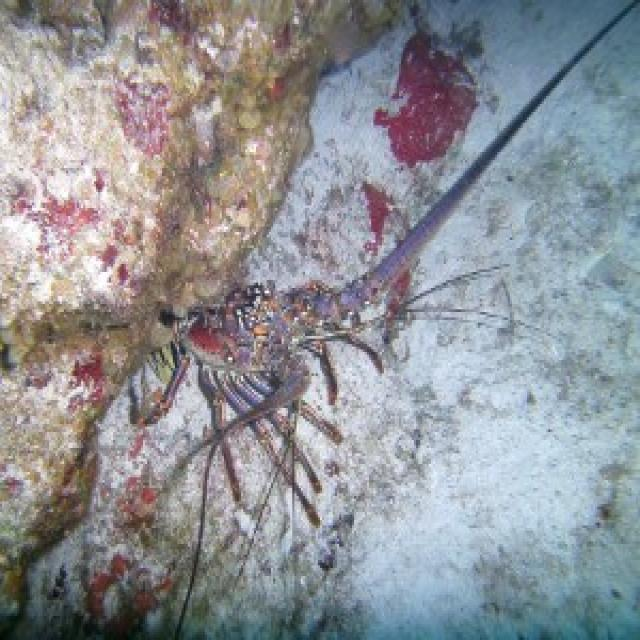lobsters: (0, 51, 640, 542)
